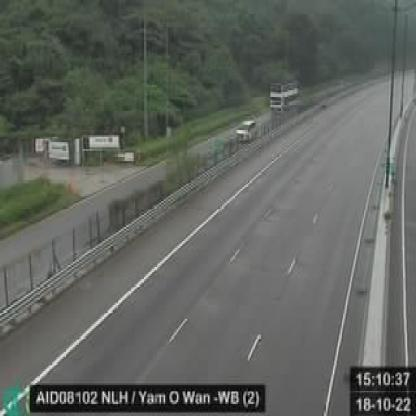Car: (235, 118, 259, 142)
